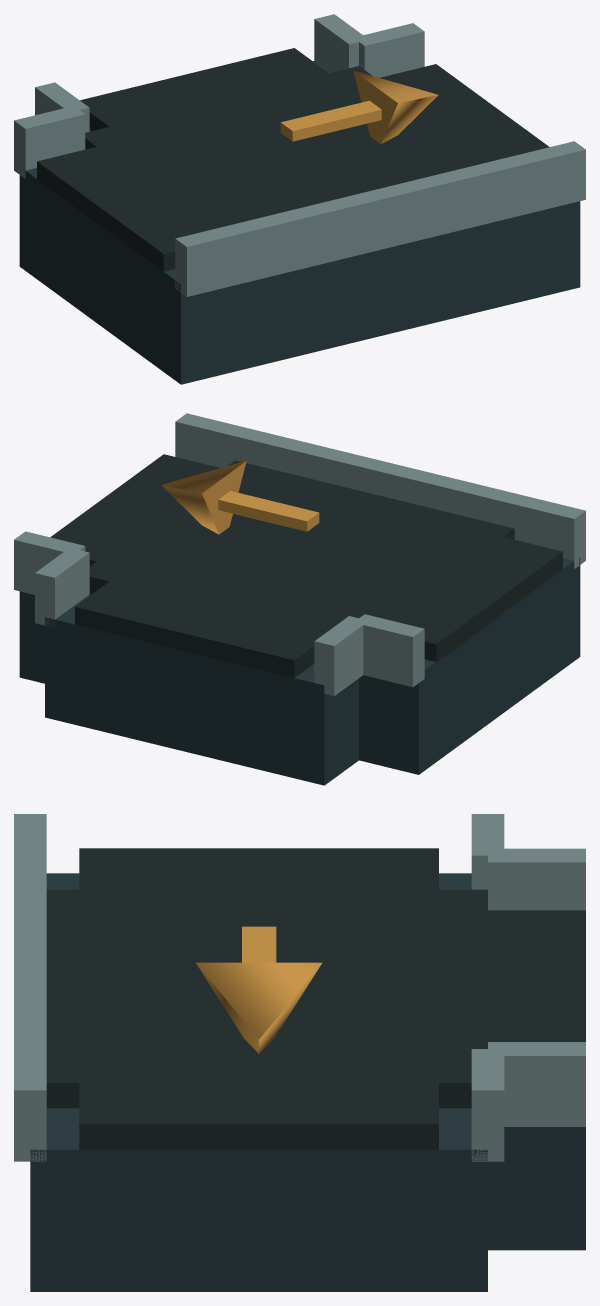
The model's file is belt-12.glb.
3 renders of one model, top to bottom at view 1: azimuth 30°, elevation 25°; view 2: azimuth 150°, elevation 25°; view 3: azimuth 270°, elevation 25°, orthographic. The views are drawn at different scales.
Parts seen in each view (by area): view 1: Batched static factory; view 2: Batched static factory; view 3: Batched static factory.
Boxes of the visible parts, x1,y1,x2,y2 form: Batched static factory: (14,14,585,384); Batched static factory: (14,413,585,785); Batched static factory: (14,814,585,1291).
Bounding box in the file's own units: 1 × 0.4111 × 0.875.
